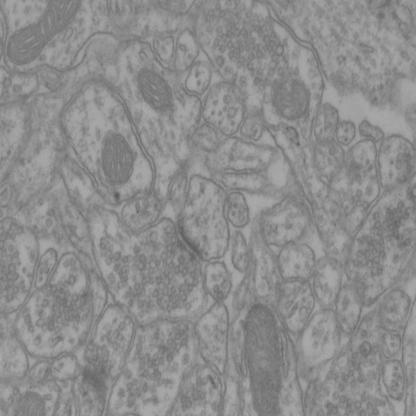mitochondria: (5, 0, 87, 68), (243, 303, 285, 416), (137, 68, 176, 116), (100, 131, 133, 186), (272, 80, 312, 121)
